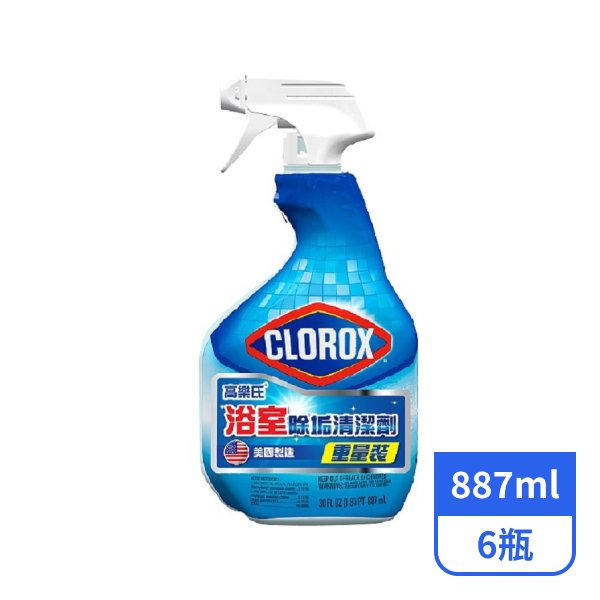cleaner: (196, 69, 428, 528)
